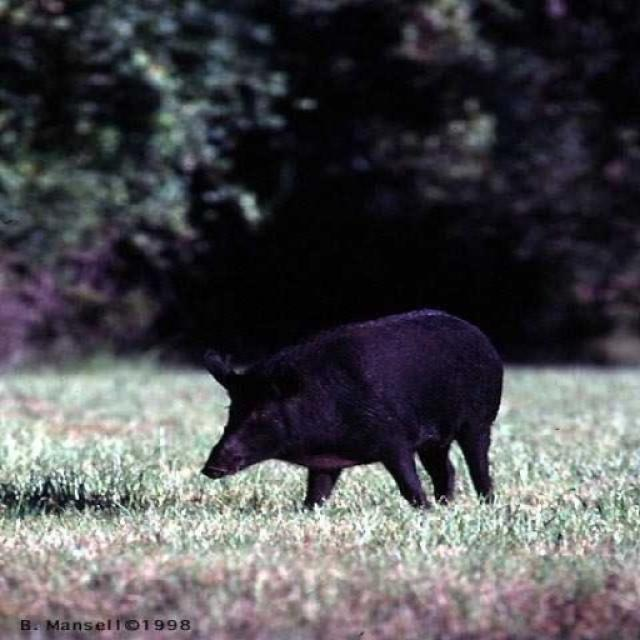pig: (172, 321, 582, 534)
